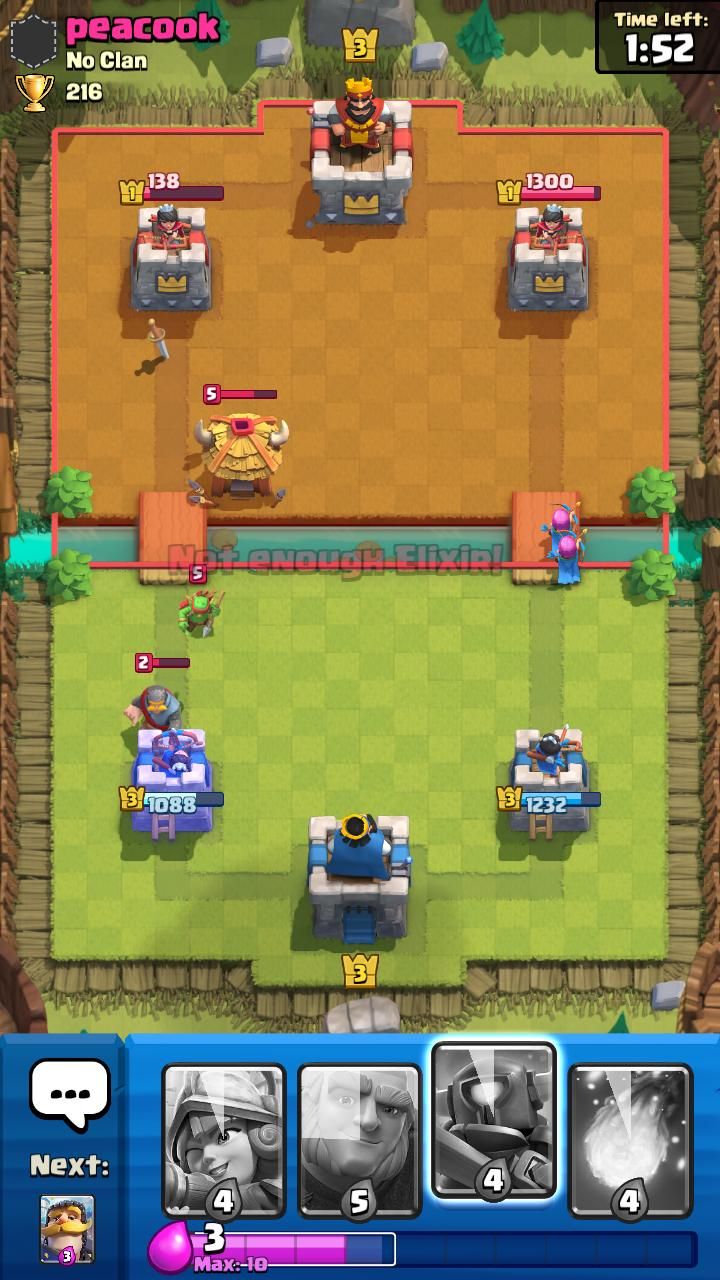ally: (547, 528, 588, 584), (540, 501, 581, 556)
enemy: (187, 384, 289, 508), (123, 653, 190, 730), (178, 564, 226, 638)
